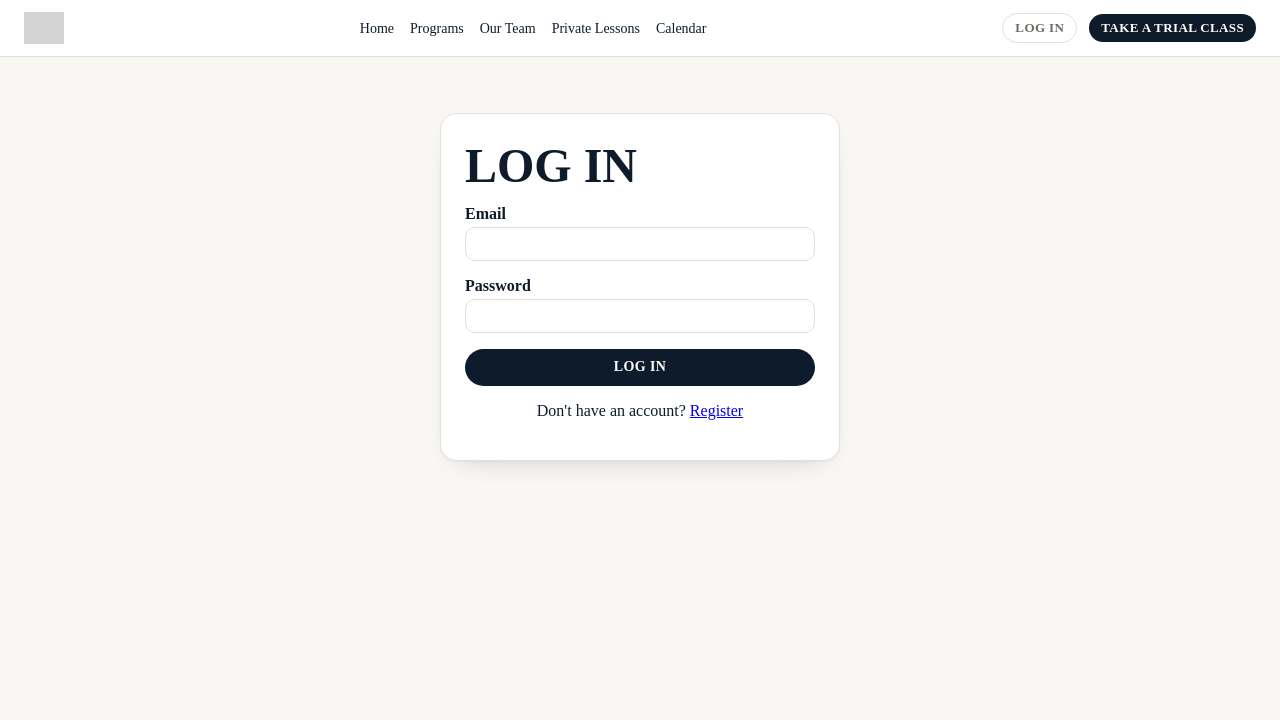
LoginPage › shows an inline error message on a failed login
Type "test-parent@example.com" into the field labelled "Email" at (640, 244), box [465,227,815,261]
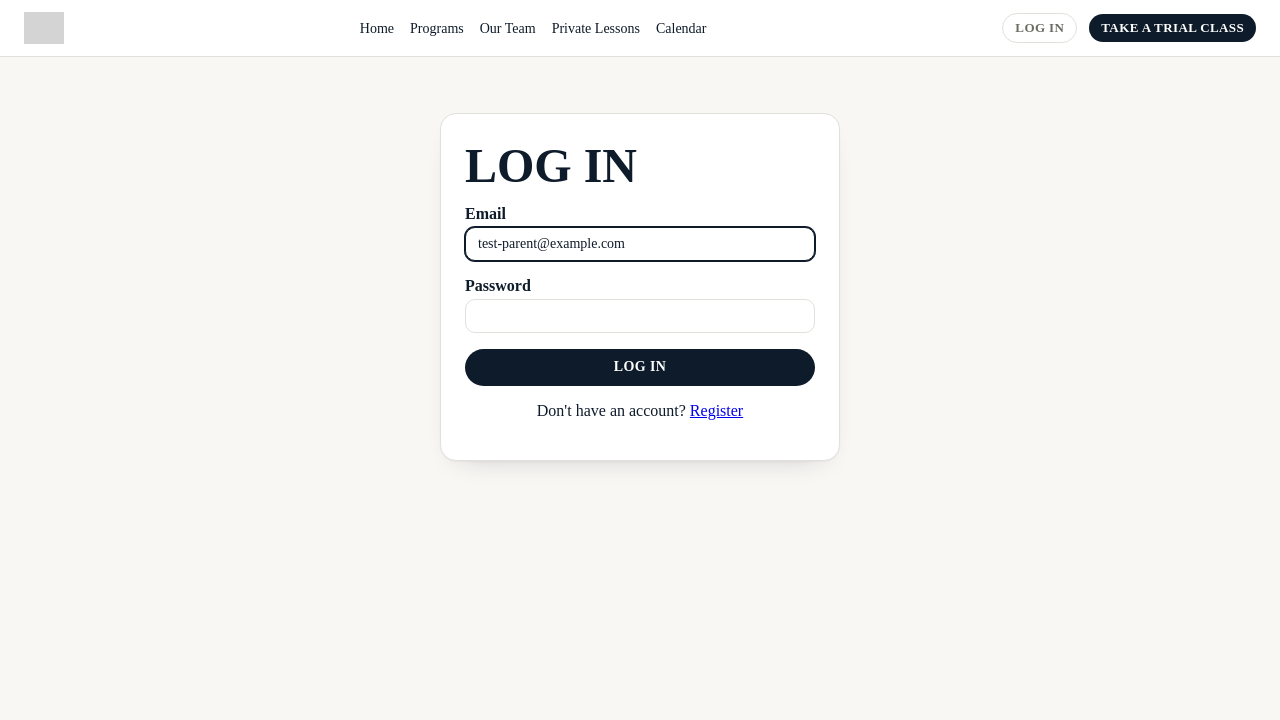
Type "wrong-password" into the password field labelled "Password" at (640, 316), box [465,299,815,333]
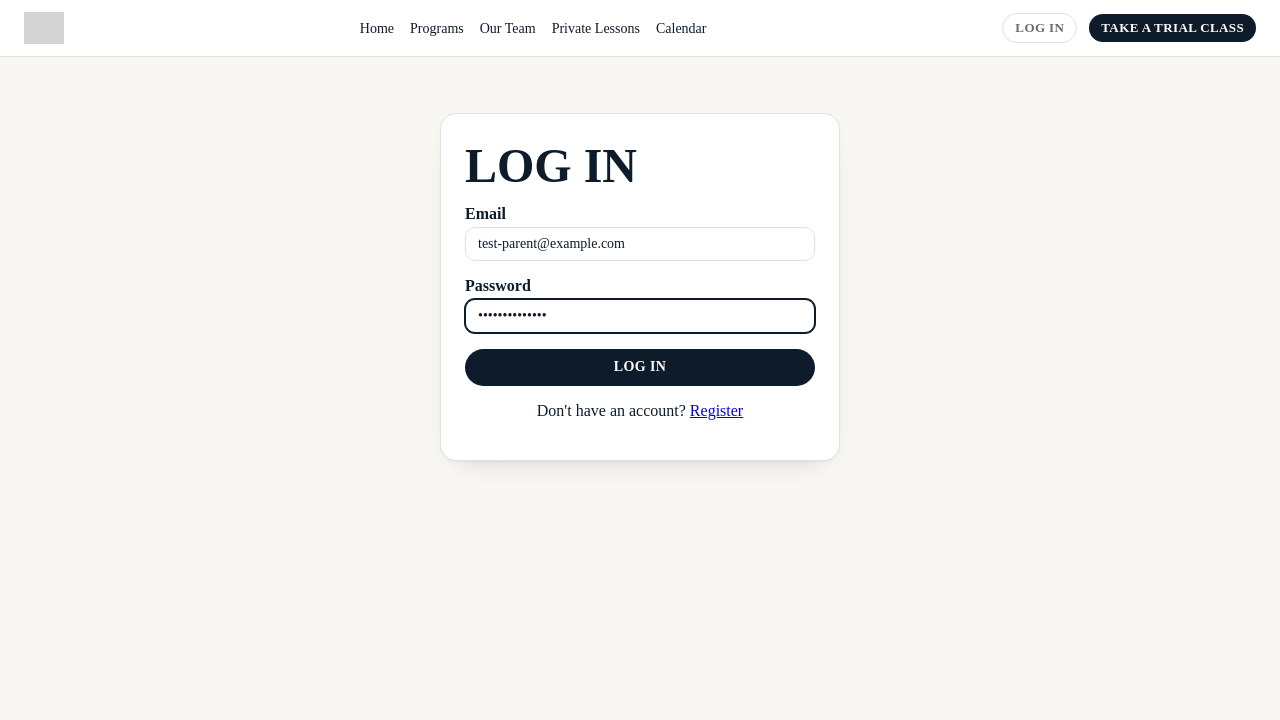
Click the button "Log In" at (640, 367), box [465,349,815,386]
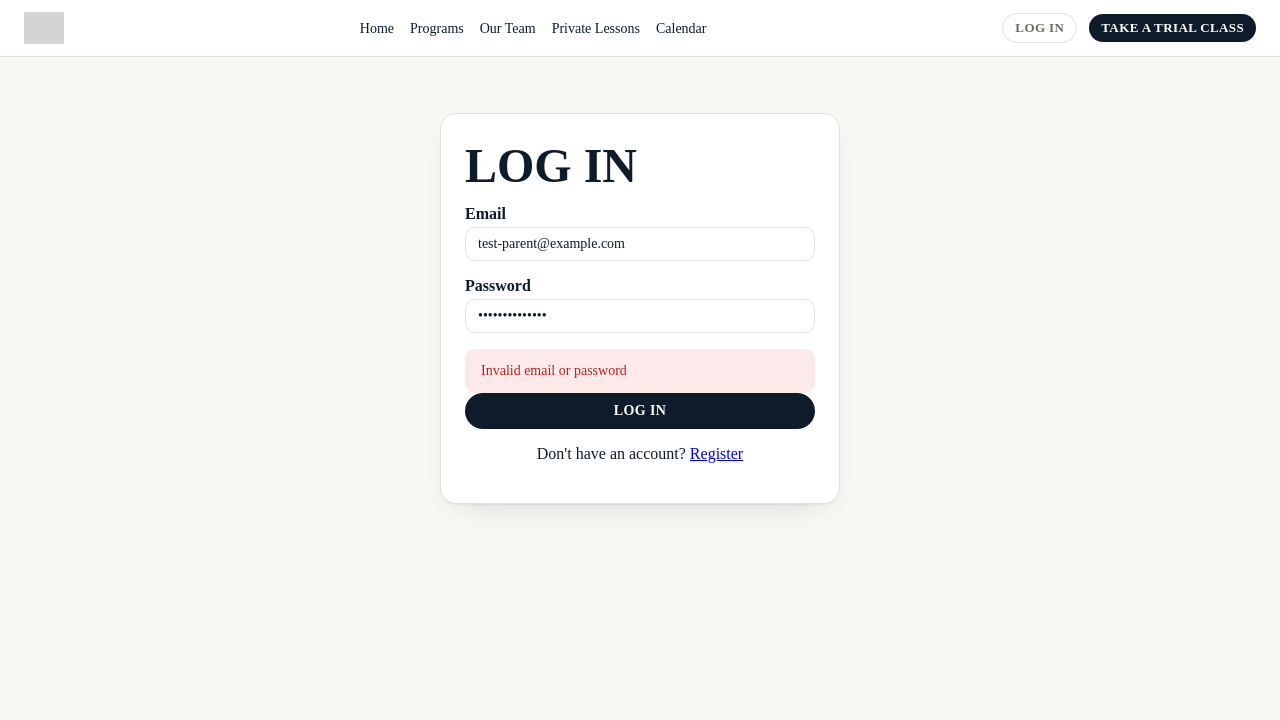
Expected: the message reads "Invalid email or password", [481,363,627,378]
